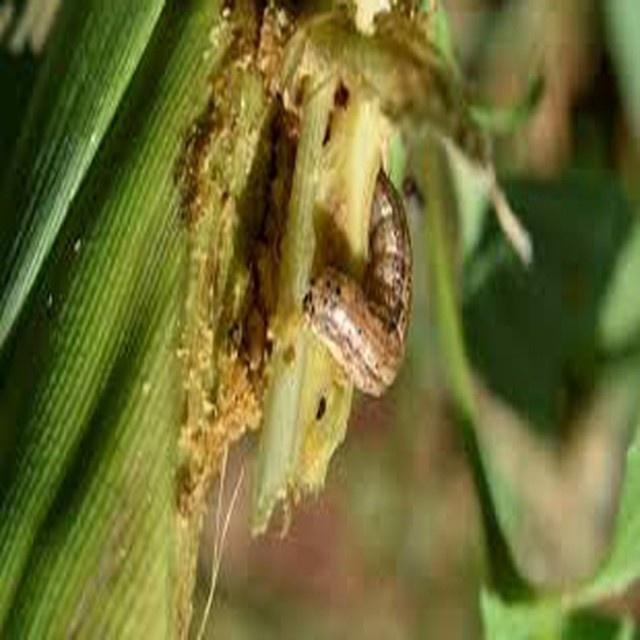gusano_cogollero: (304, 170, 406, 402)
